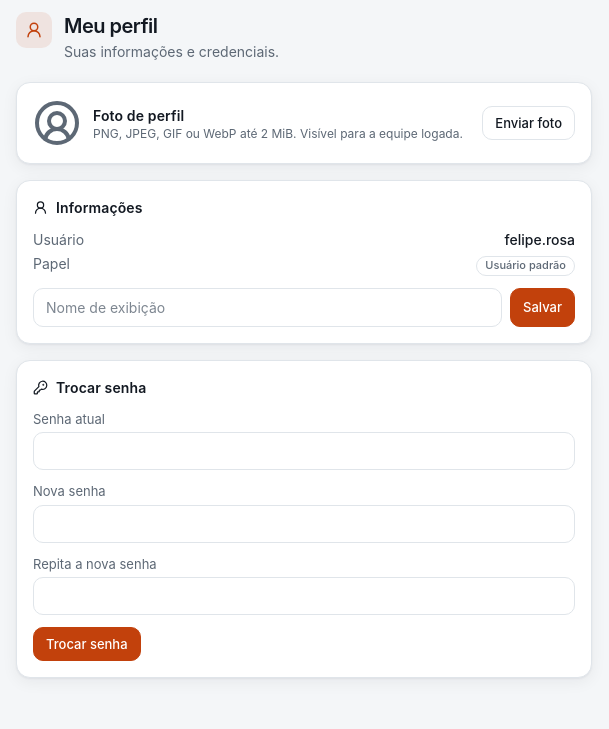
Scenario: ProfilePage › troca de senha bem-sucedida limpa o formulário
This screenshot has width=609, height=729.
Expected: the text "felipe.rosa" is shown, [505,230,575,250]
Type "atual-123" into the password field labelled "Senha atual" at (304, 451), box [33,432,575,470]
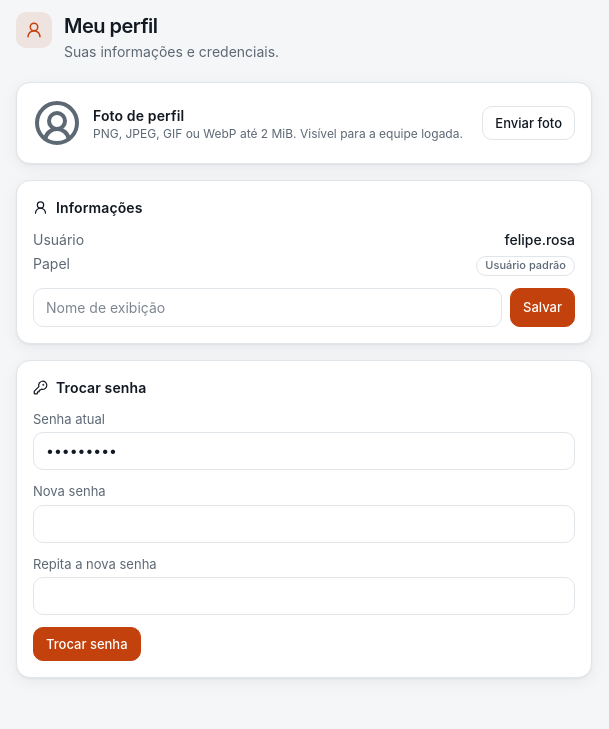
Type "senha-nova-99" into the password field labelled "Nova senha" at (304, 524), box [33,505,575,543]
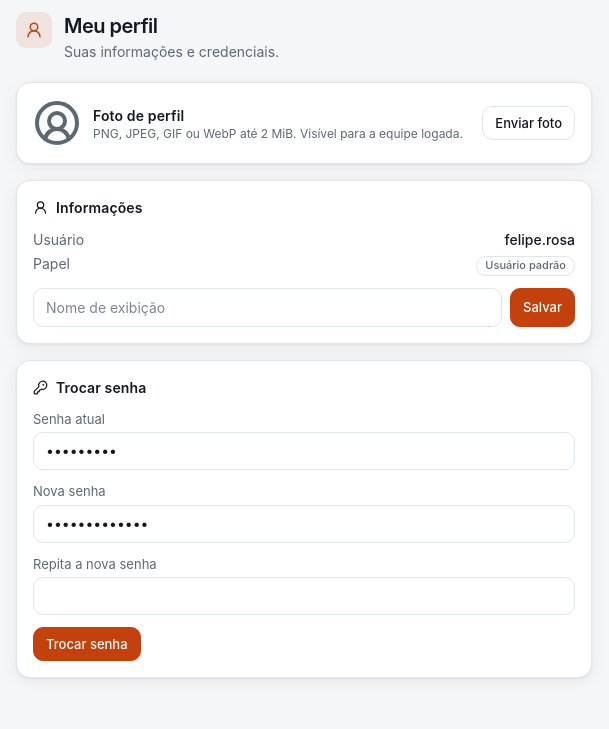
Type "senha-nova-99" into the password field labelled "Repita a nova senha" at (304, 596), box [33,577,575,615]
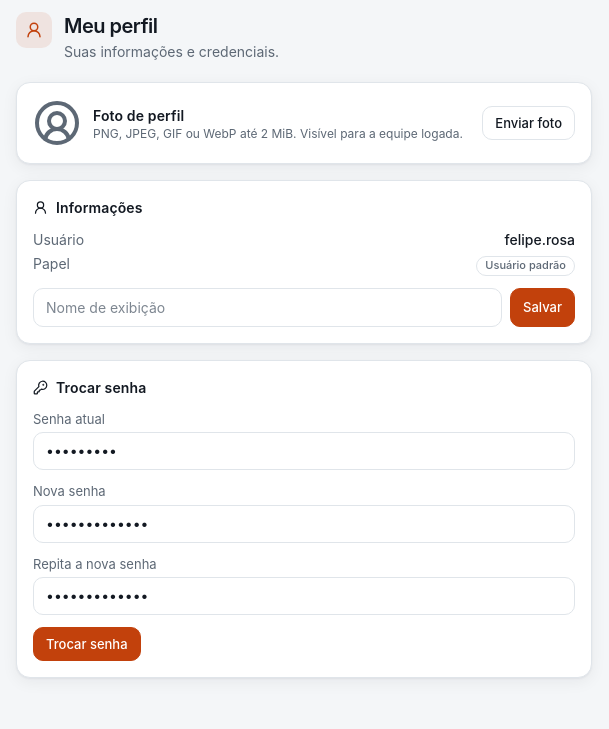
Click the button "Trocar senha" at (87, 644), box [33,627,141,661]
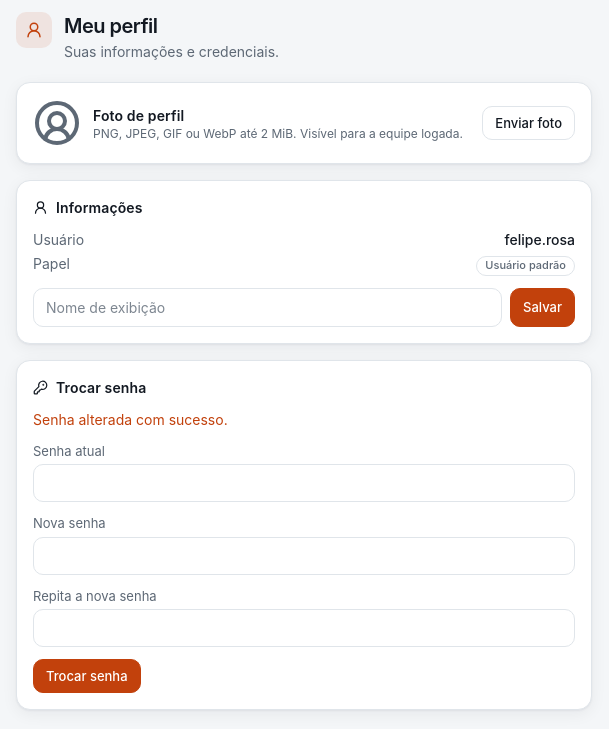
Expected: the text "Senha alterada com sucesso." is shown, [33,411,228,428]
